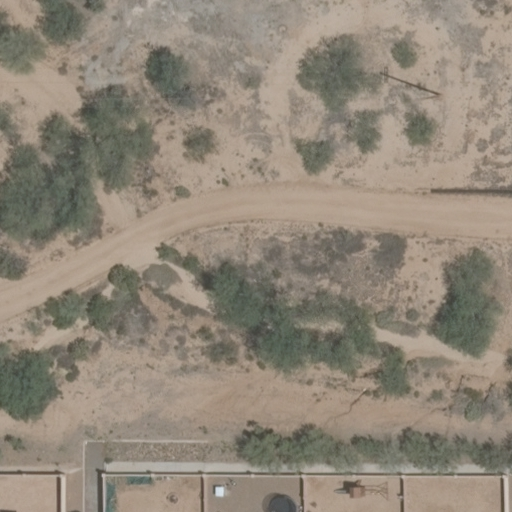DT: (381, 66, 443, 97)
